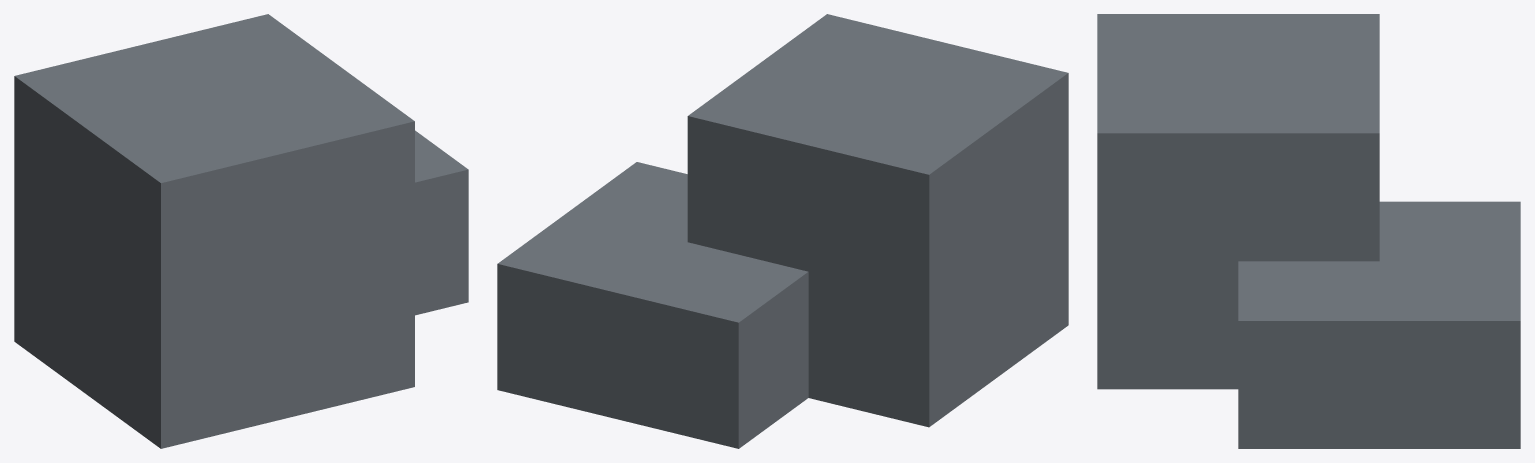
The model's file is rock.obj.
3 renders of one model, left to right at view 1: azimuth 30°, elevation 25°; view 2: azimuth 150°, elevation 25°; view 3: azimuth 270°, elevation 25°, orthographic. The views are drawn at different scales.
Size of the model in its own units: 0.3 by 0.2 by 0.3.
1 material, 1 textured.
